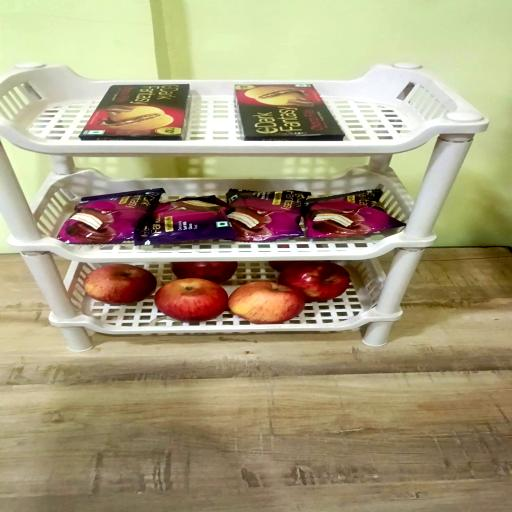Apple: (57, 189, 163, 244), (229, 282, 306, 324), (158, 279, 230, 323), (83, 264, 156, 306), (280, 263, 350, 302), (172, 263, 237, 284), (270, 262, 302, 274)
Choco Fills: (78, 83, 188, 140), (237, 83, 345, 140)
Choco Pie: (304, 191, 405, 240), (138, 198, 239, 247), (228, 191, 310, 244)
